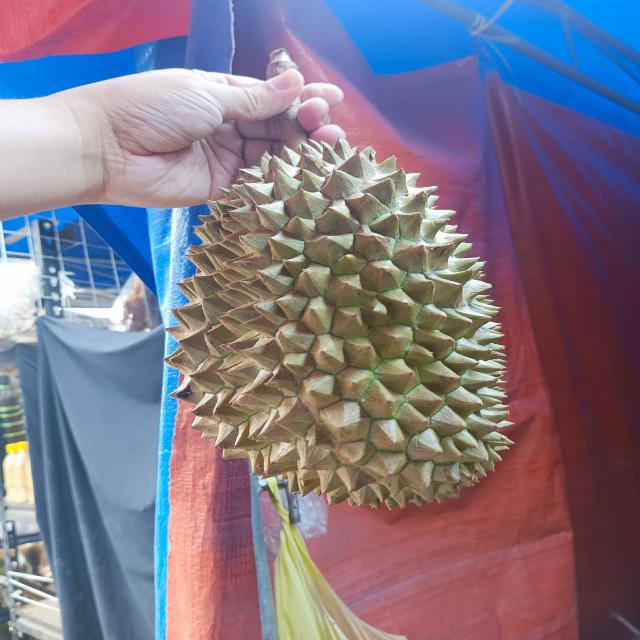mature: (164, 133, 509, 508)
